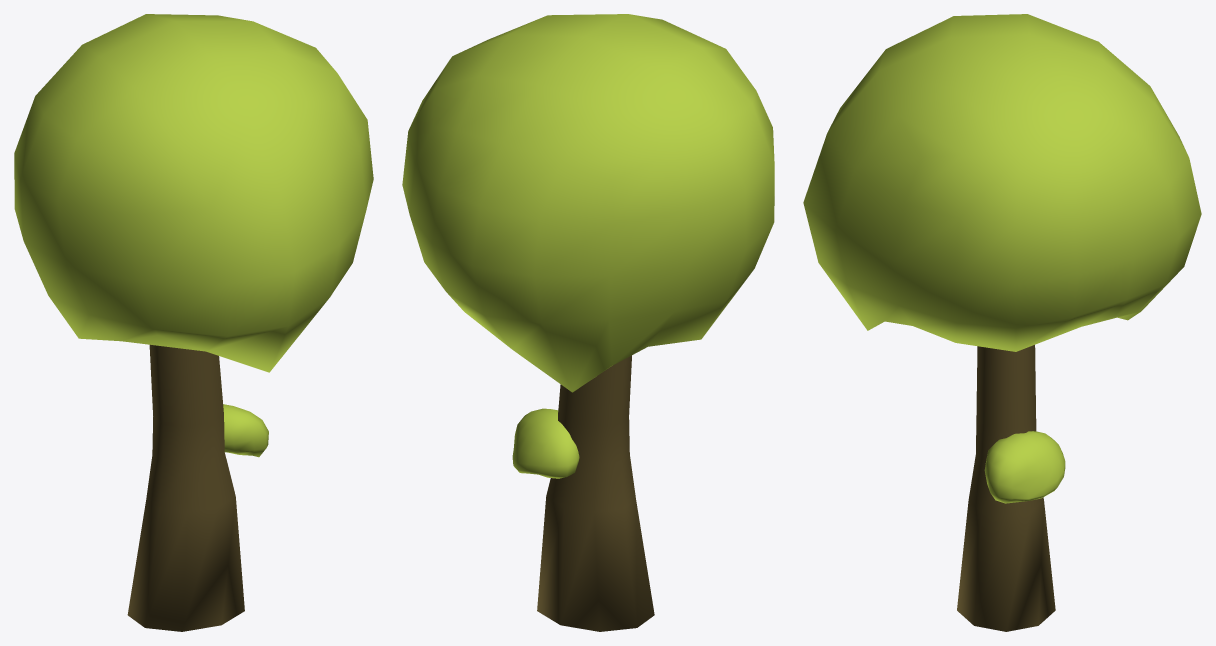
Rendered from shorttree_combined.fbx.
The picture shows the model from 3 angles, left to right: view 1: azimuth 30°, elevation 25°; view 2: azimuth 150°, elevation 25°; view 3: azimuth 270°, elevation 25°; orthographic projection.
Parts seen in each view (by area): view 1: shortleaves39573; view 2: shortleaves39573; view 3: shortleaves39573.
Part boxes in pixels (x1,y1,x2,y2): shortleaves39573: (14,14,373,631); shortleaves39573: (402,14,774,631); shortleaves39573: (803,14,1201,631).
Size of the model in its own units: 5.03 by 8.42 by 5.33.
